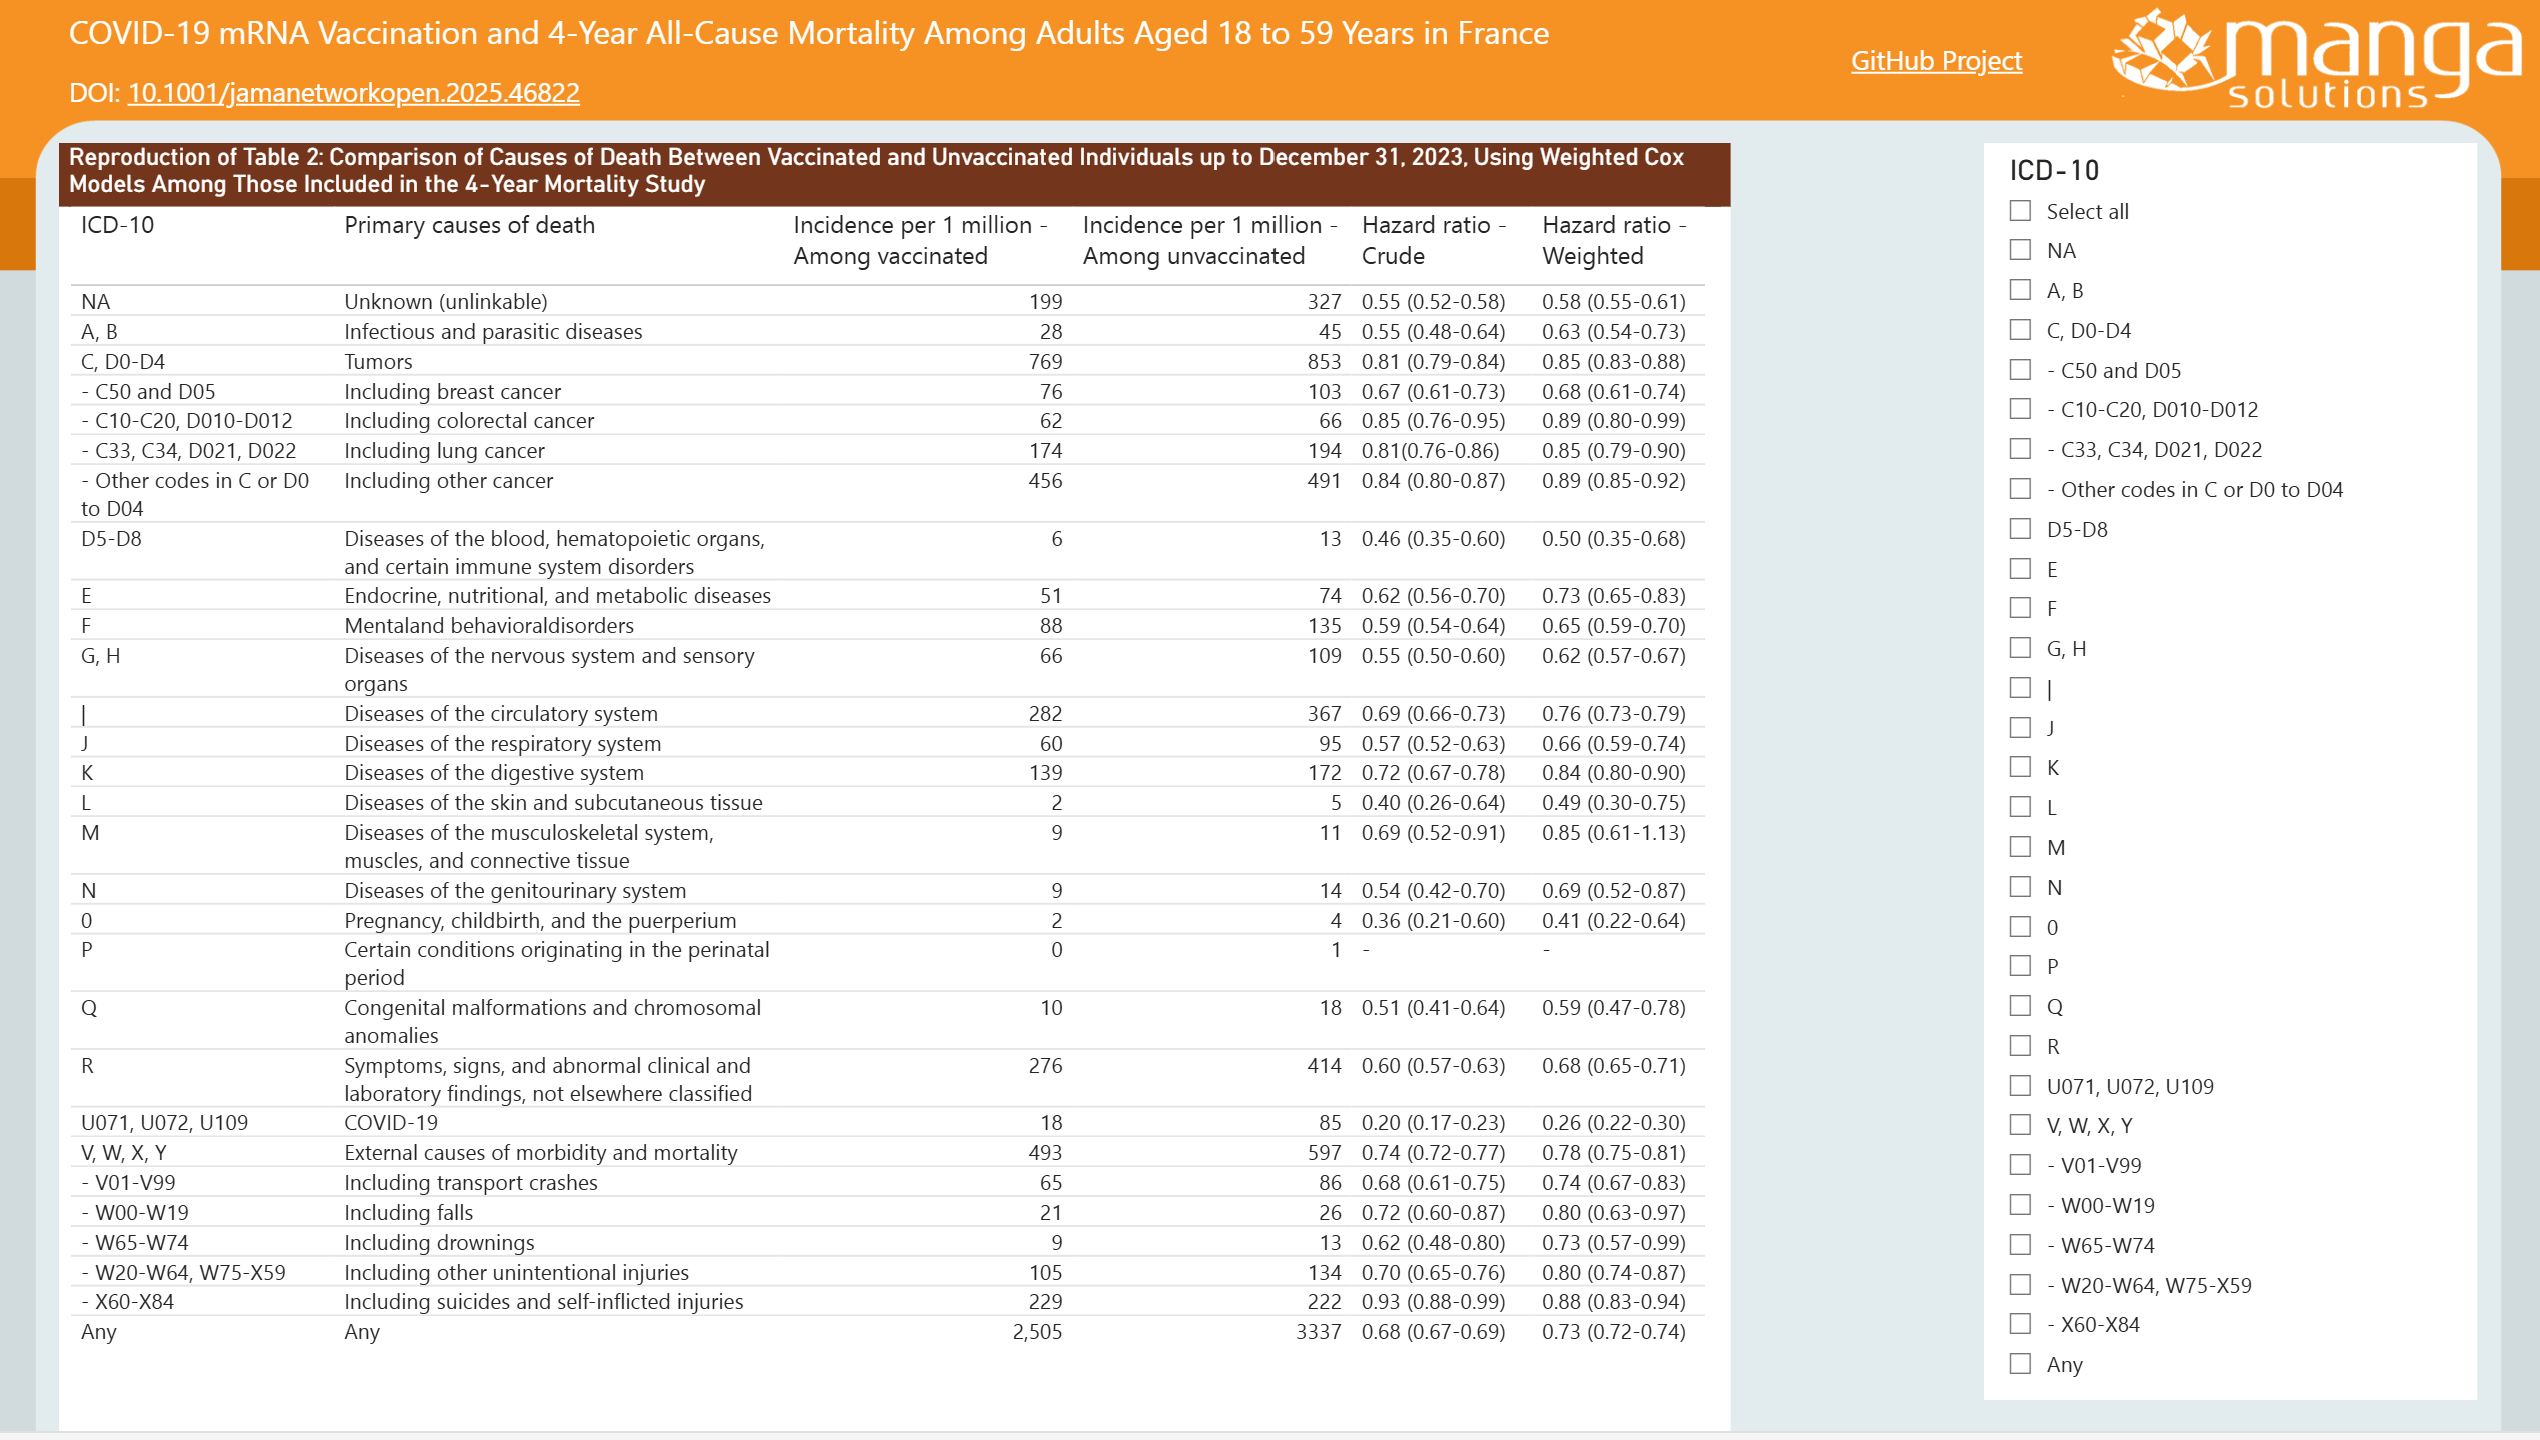

Layout of this report page (visuals, bound fields, positions):
{"tool":"powerbi","page":{"name":"Repro - Table 2","canvas":[1280,720],"ordinal":2},"visuals":[{"type":"textbox","box":[32,0,880,48],"z":0},{"type":"actionButton","box":[1056,0,224,64],"z":1000},{"type":"textbox","box":[896,16,128,32],"z":2000},{"type":"textbox","box":[32,32,304,32],"z":3000},{"type":"tableEx","title":"Reproduction of Table 2: Comparison of Causes of Death Between Vaccinated and Unvaccinated Individuals up to December 31, 2023, Using Weighted Cox Models Among  Those Included in the 4-Year Mortality ","fields":{"Values":["Table 2 text.ICD-10","Table 2 text.Primary causes of death","Table 2 text.# Incidence per 1 million Among vaccinated","Table 2 text.# Incidence per 1 million Among unvaccinated","Table 2 text.Hazard ratio - Crude","Table 2 text.Hazard ratio - Weighted"]},"box":[32,72,840,648],"z":4000},{"type":"slicer","fields":{"Values":["Table 2.ICD-10 with description"]},"box":[999.5,71.1,248.6,648.9],"z":5000}]}

Visuals, with their boxes in screenshot pixels (x1, y1, x2, y2), scaled from the page's 1280x720 canvas onto the 2540x1440 screenshot:
textbox: box=[64, 0, 1810, 96]
actionButton: box=[2096, 0, 2539, 128]
textbox: box=[1778, 32, 2032, 96]
textbox: box=[64, 64, 667, 128]
"Reproduction of Table 2: Comparison of Causes of Death Between Vaccinated and Unvaccinated Individuals up to December 31, 2023, Using Weighted Cox Models Among  Those Included in the 4-Year Mortality " tableEx: box=[64, 144, 1730, 1439]
slicer - Table 2.ICD-10 with description: box=[1983, 142, 2477, 1439]
